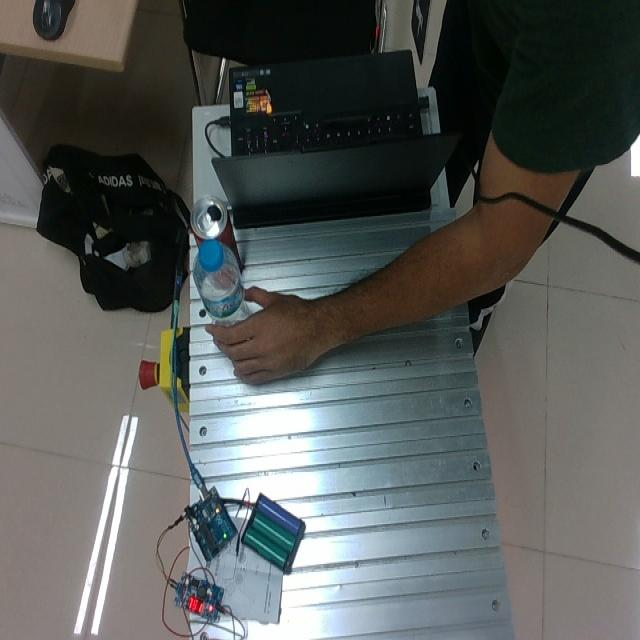coca: (187, 193, 241, 276)
lavie: (195, 242, 253, 326)
